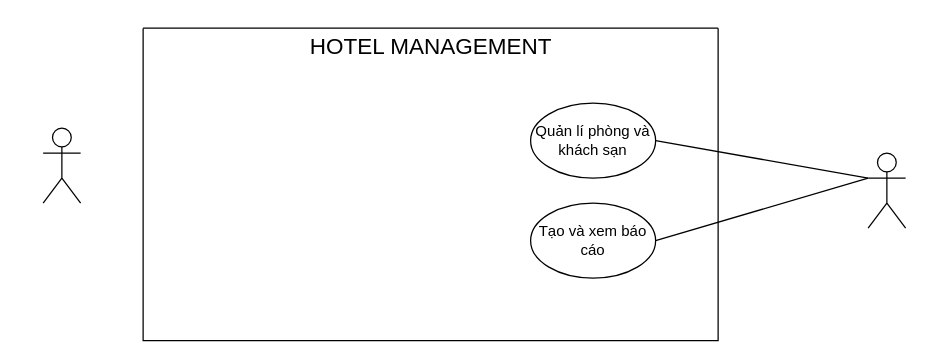
The diagram is 938 pixels wide and 363 high, and some of its shapes have lost their labels. The centre of each missing label's shape, as x and y in pixels:
"Khách hàng" goes at (x=61, y=165).
"Manager" goes at (x=886, y=190).
